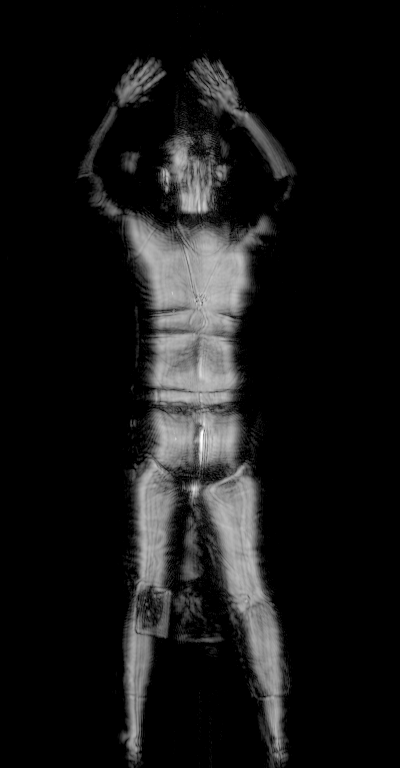head: (151, 122, 235, 200)
others: (130, 581, 176, 643)
person: (77, 55, 298, 768)
